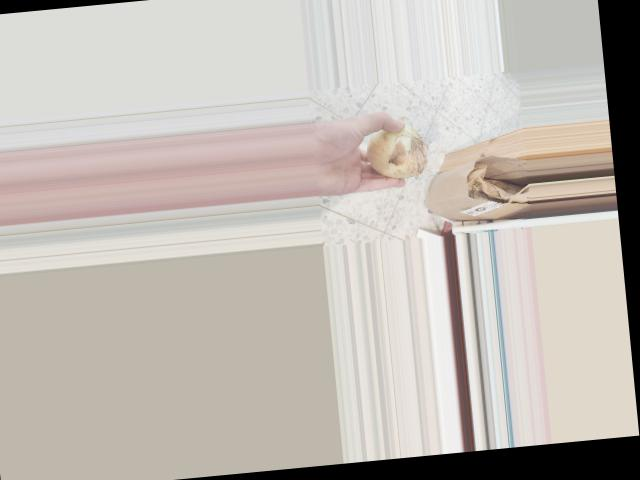onion: (360, 113, 428, 183)
